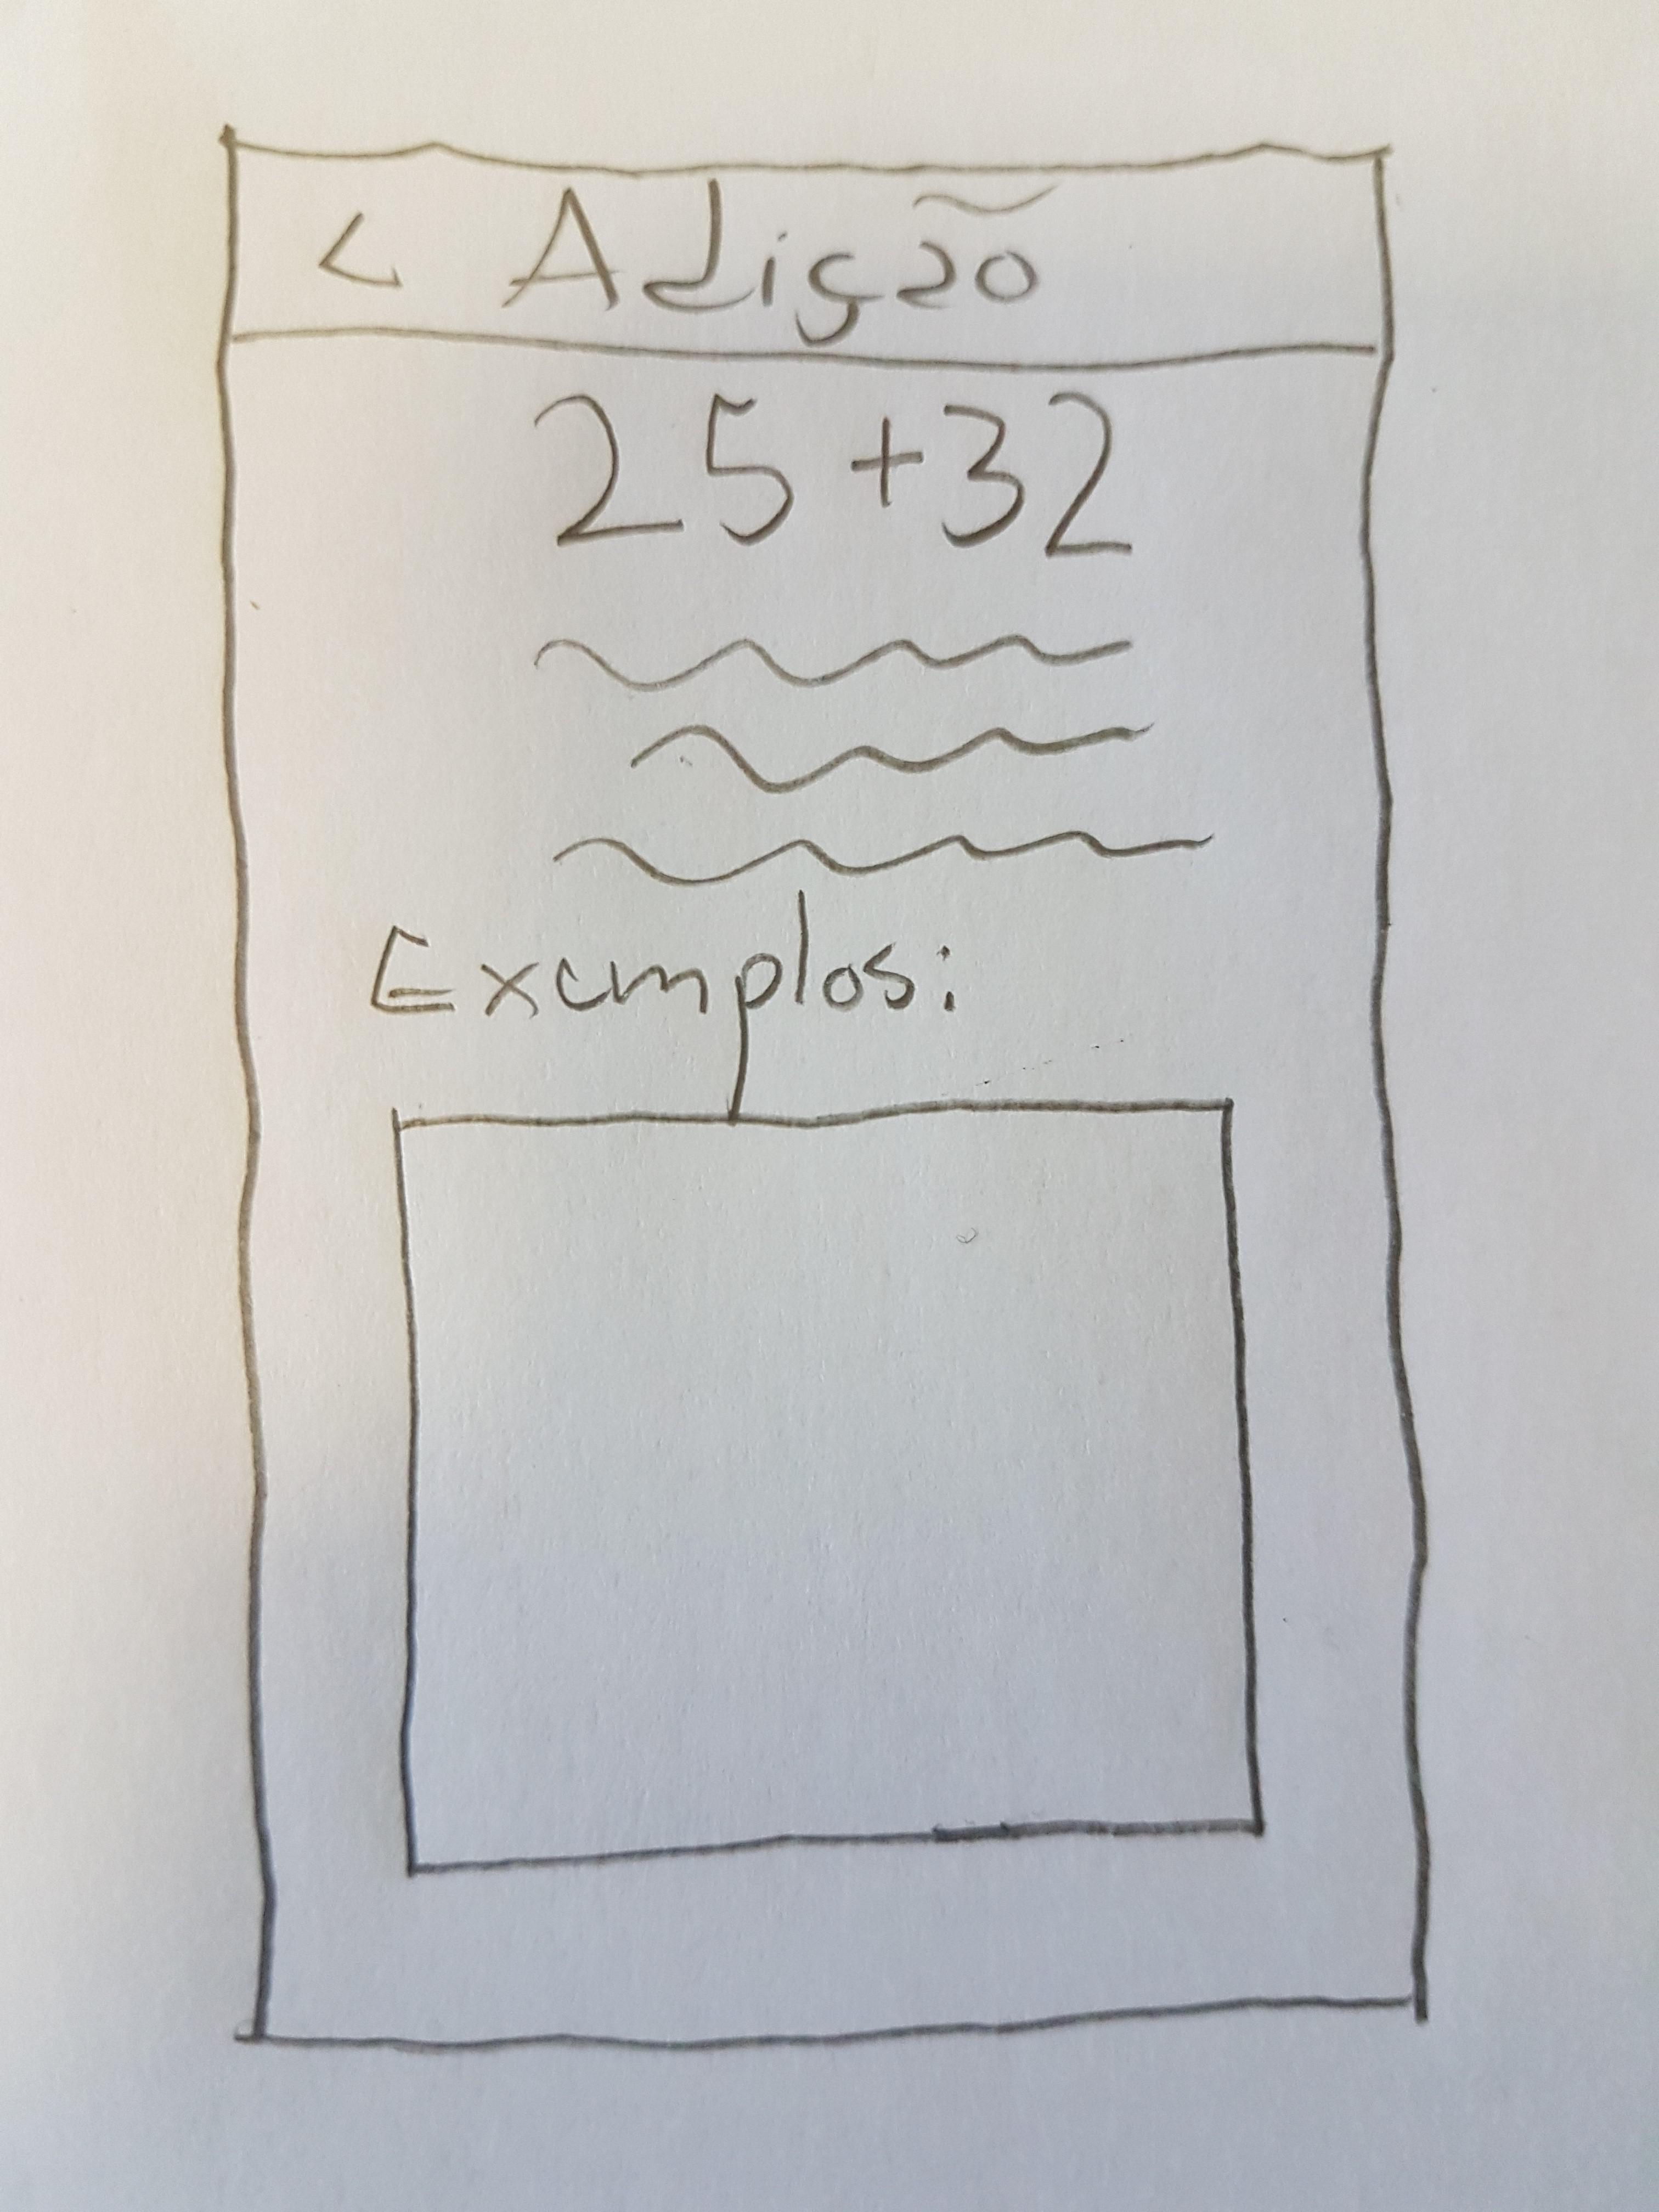Button: (307, 207, 408, 300)
Label: (526, 618, 1218, 888), (364, 911, 953, 1122), (525, 383, 1140, 561), (493, 179, 1061, 355)
Screen: (216, 132, 1432, 2052)
TextBox: (380, 1094, 1269, 1885)
